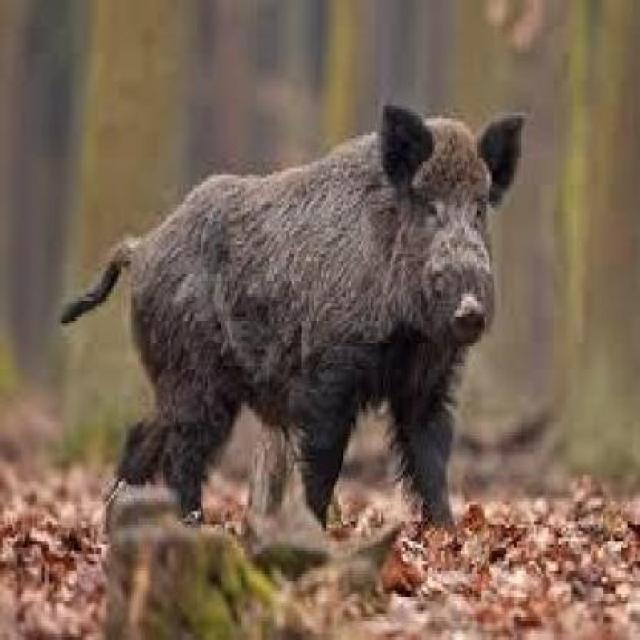wildboar: (48, 101, 524, 545)
